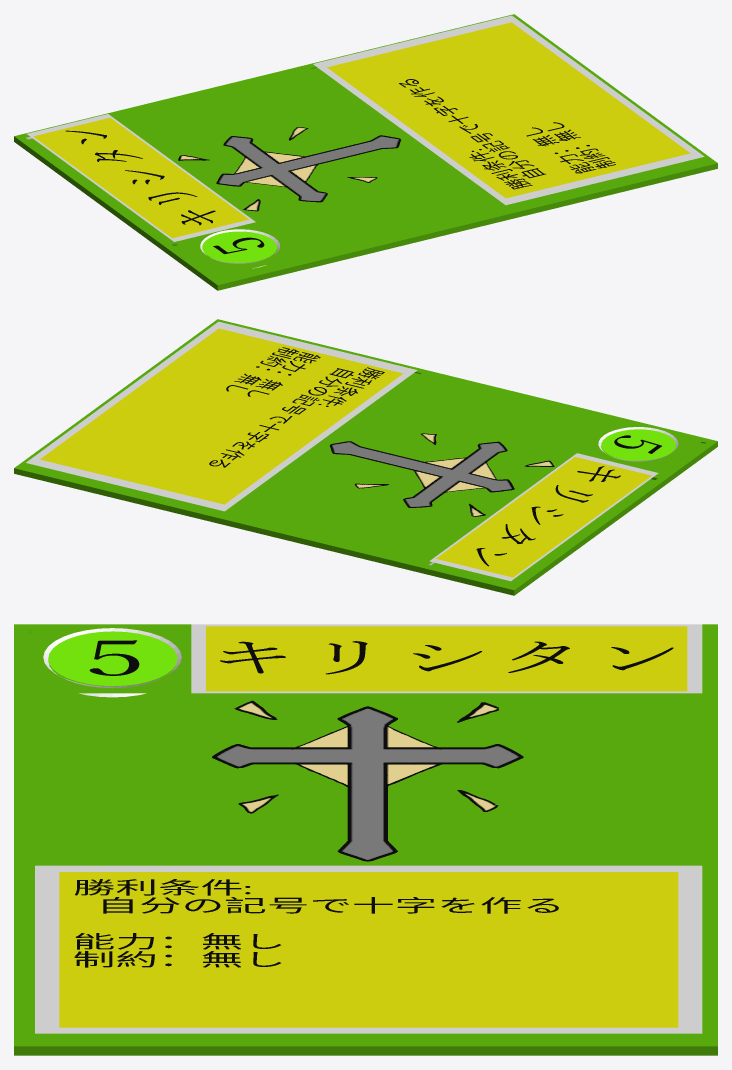
The model's file is キリシタン緑.fbx.
3 renders of one model, top to bottom at view 1: azimuth 30°, elevation 25°; view 2: azimuth 150°, elevation 25°; view 3: azimuth 270°, elevation 25°, orthographic. The views are drawn at different scales.
Parts seen in each view (by area): view 1: カード本体.001, 説明欄, 名前欄, 平面.001, 説明文, 円, 平面, 名前; view 2: カード本体.001, 説明欄, 名前欄, 平面.001, 説明文, 円, 平面, 名前; view 3: カード本体.001, 説明欄, 名前欄, 平面.001, 説明文, 平面, 円, 名前, コスト蘭.
Boxes of the visible parts, x1,y1,x2,y2 form: カード本体.001: (14,14,717,290); 説明欄: (313,15,704,205); 名前欄: (27,114,255,241); 平面.001: (178,127,400,211); 説明文: (399,79,615,189); 円: (202,231,276,262); 平面: (174,222,302,275); 名前: (65,130,215,225); カード本体.001: (14,319,717,595); 説明欄: (26,321,417,511); 名前欄: (429,453,658,581); 平面.001: (330,433,554,516); 説明文: (209,347,384,467); 円: (601,429,675,460); 平面: (577,419,704,472); 名前: (476,466,620,566); カード本体.001: (14,624,717,1055); 説明欄: (35,865,702,1033); 名前欄: (191,624,702,693); 平面.001: (212,700,523,861); 説明文: (74,879,558,967); 平面: (30,624,191,693); 円: (48,631,177,686); 名前: (220,641,673,674); コスト蘭: (43,628,181,697).
Size of the model in its own units: 281 by 6.07 by 198.
